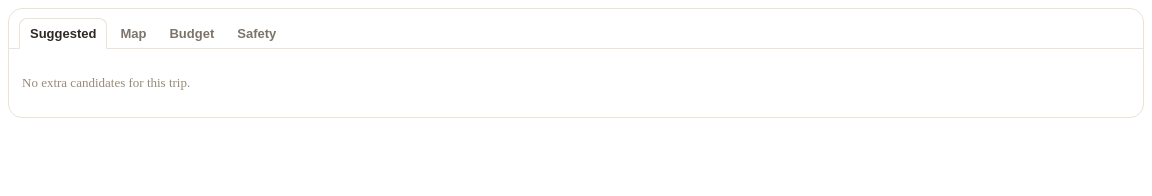
Test: ADV-3: empty / whitespace-only details › whitespace-only per-leg detail " " deduplicates only an identical " " trip entry
Click the button "Safety".
click(257, 33)  # box [227, 18, 286, 48]
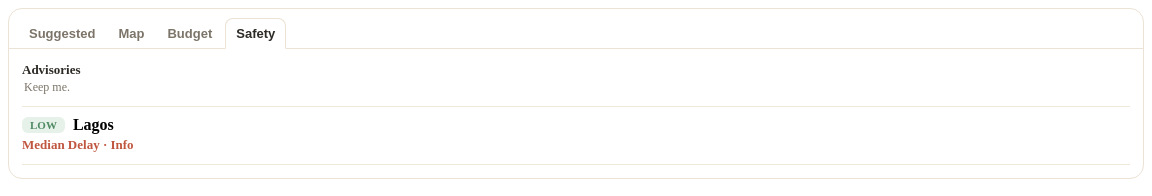
Check: the elements with test id "advisory-item" read "Keep me.", in this order, box [24, 80, 70, 94]
